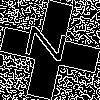Z: (25, 25, 76, 65)
